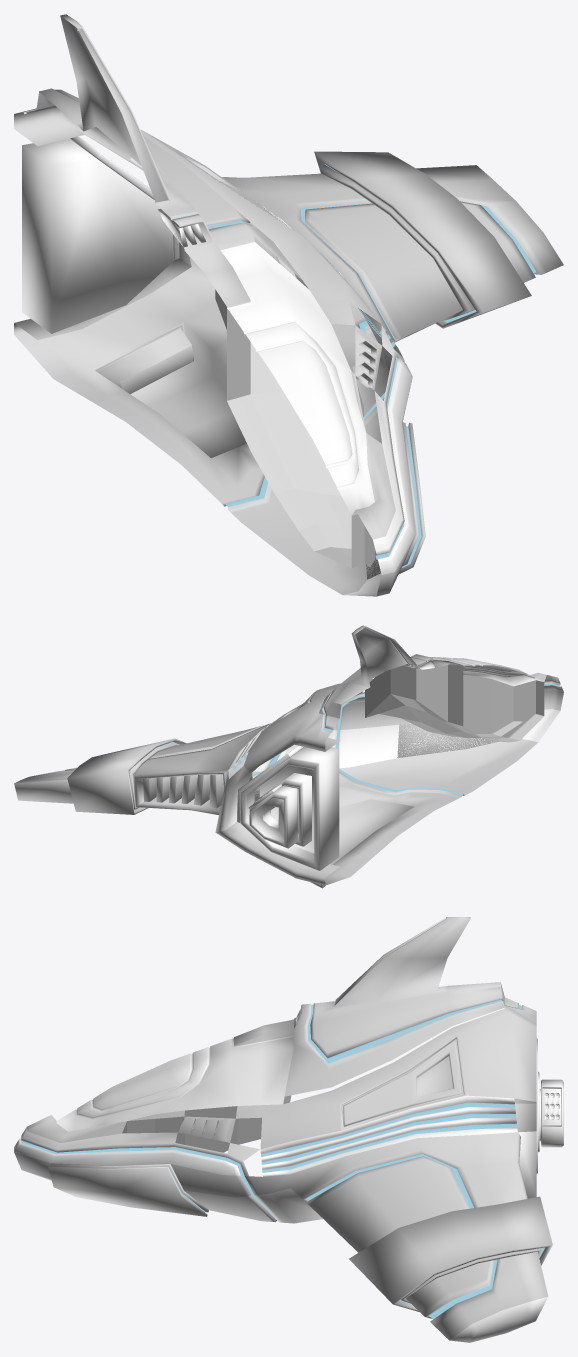
Rendered from Spaceship_Request.glb.
3 views of the same model, one above another, from view 1: azimuth 30°, elevation 25°; view 2: azimuth 150°, elevation 25°; view 3: azimuth 270°, elevation 25° (orthographic). The views are drawn at different scales.
Parts seen in each view (by area): view 1: Spaceship; view 2: Spaceship; view 3: Spaceship.
Boxes of the visible parts, box(x1,y1,x2,y2) form: Spaceship: box(14, 14, 563, 596); Spaceship: box(14, 625, 563, 888); Spaceship: box(14, 917, 563, 1342).
Bounding box in the file's own units: 5.33 × 4.14 × 7.31.
